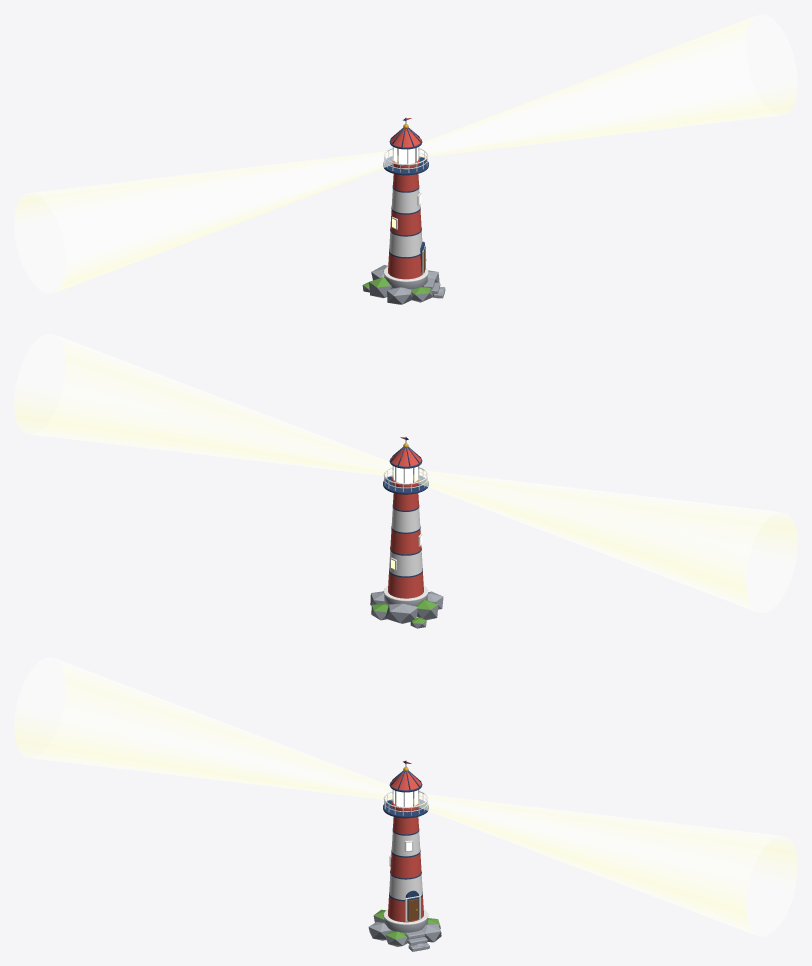
The model's file is farol.glb.
3 renders of one model, top to bottom at view 1: azimuth 30°, elevation 25°; view 2: azimuth 150°, elevation 25°; view 3: azimuth 330°, elevation 25°, orthographic.
Visible parts, largest first — view 1: facho, farol; view 2: facho, farol; view 3: facho, farol.
Part boxes in pixels (x1,y1,x2,y2): facho: [14, 14, 797, 293]; farol: [362, 118, 445, 304]; facho: [14, 333, 797, 612]; farol: [370, 437, 443, 628]; facho: [14, 657, 797, 936]; farol: [368, 760, 441, 951].
Size of the model in its own units: 52 by 12.75 by 6.4.
